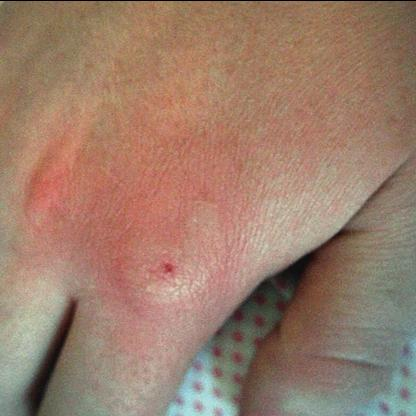Wasp: (115, 194, 231, 314)
